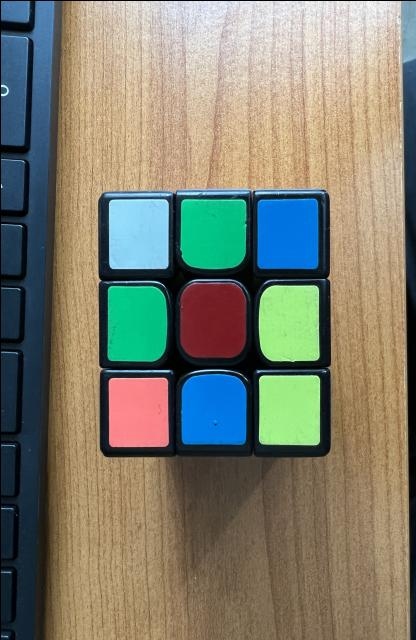Blue: (181, 372, 246, 444), (257, 198, 317, 269)
Green: (179, 198, 246, 269), (106, 285, 167, 361)
Orange: (107, 376, 168, 446)
Red: (180, 281, 245, 358)
White: (108, 198, 168, 269)
Yellow: (258, 285, 318, 361), (258, 374, 320, 445)
